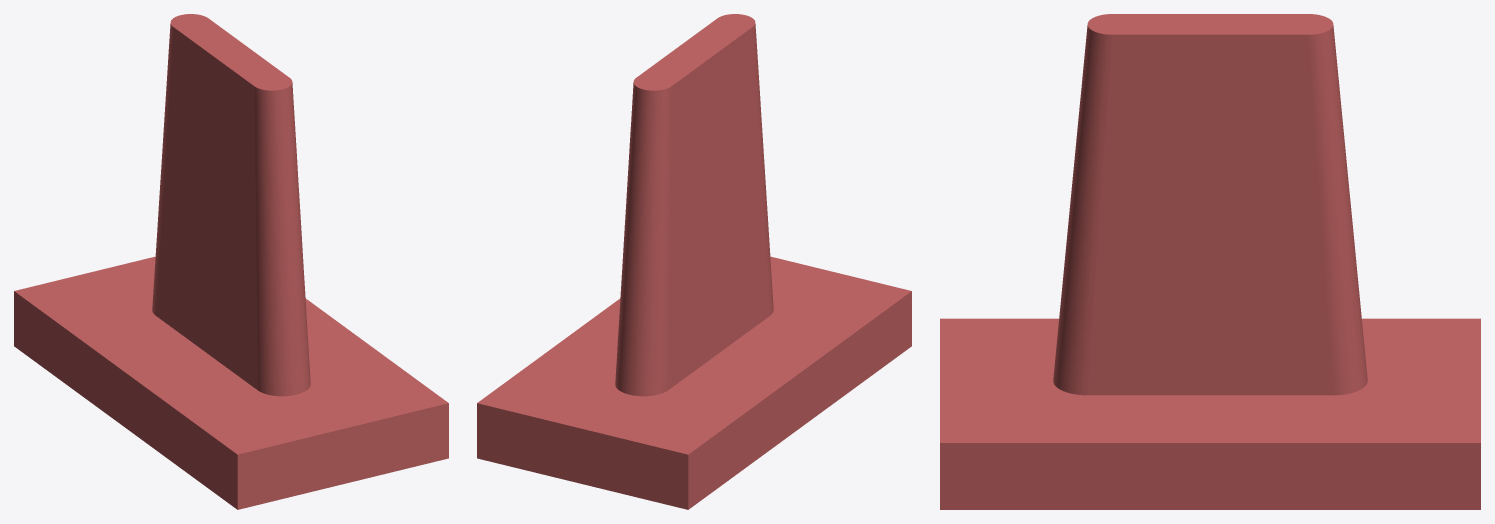
Rendered from bridge2_piers.obj.
3 renders of one model, left to right at view 1: azimuth 30°, elevation 25°; view 2: azimuth 150°, elevation 25°; view 3: azimuth 270°, elevation 25°, orthographic. The views are drawn at different scales.
Visible parts, largest first — view 1: mesh_0; view 2: mesh_0; view 3: mesh_0.
Part boxes in pixels (x1,y1,x2,y2): mesh_0: [14, 14, 448, 509]; mesh_0: [477, 14, 911, 509]; mesh_0: [940, 14, 1480, 509].
Bounding box in the file's own units: 6 × 9.5 × 11.
